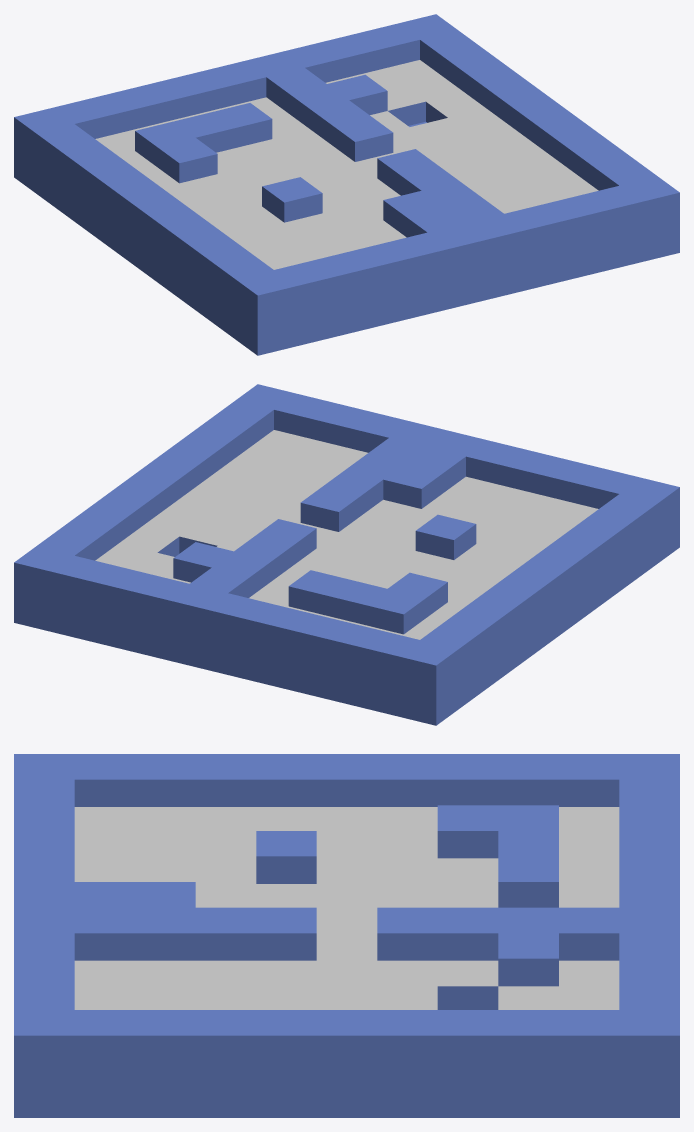
File: 041_platform.fbx
3 views of the same model, one above another, from view 1: azimuth 30°, elevation 25°; view 2: azimuth 150°, elevation 25°; view 3: azimuth 270°, elevation 25° (orthographic). The views are drawn at different scales.
Visible parts, largest first — view 1: Cube; view 2: Cube; view 3: Cube.
Boxes of the visible parts, box(x1,y1,x2,y2) form: Cube: box(14, 14, 679, 355); Cube: box(14, 384, 679, 725); Cube: box(14, 754, 679, 1117).
Size of the model in its own units: 1100 by 150 by 1100.
